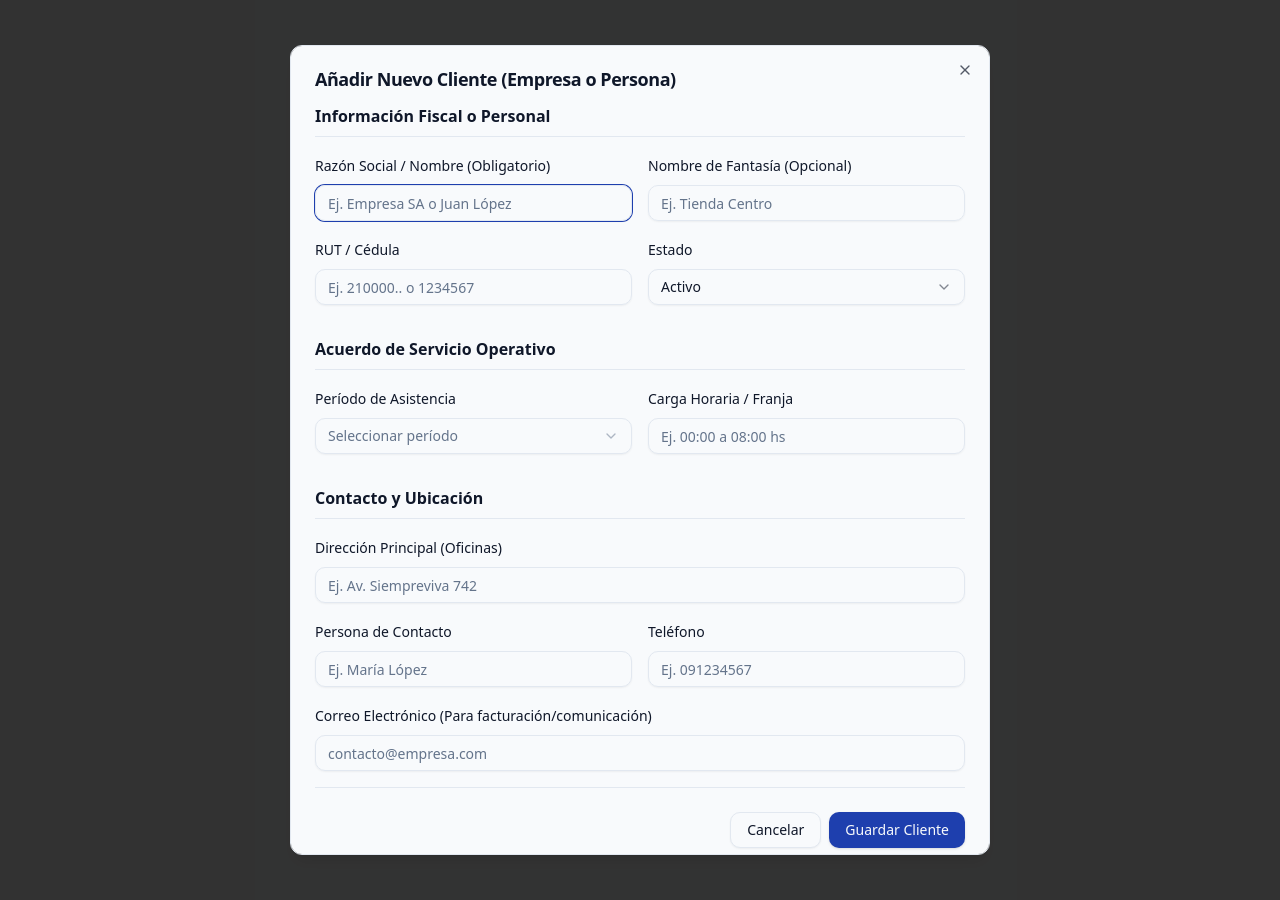
Test: ClienteFormDialog › shows validation errors when submitting empty required fields
The image size is (1280, 900).
Click the button "Guardar Cliente" at [897, 830], box x1=829 y1=812 x2=965 y2=848
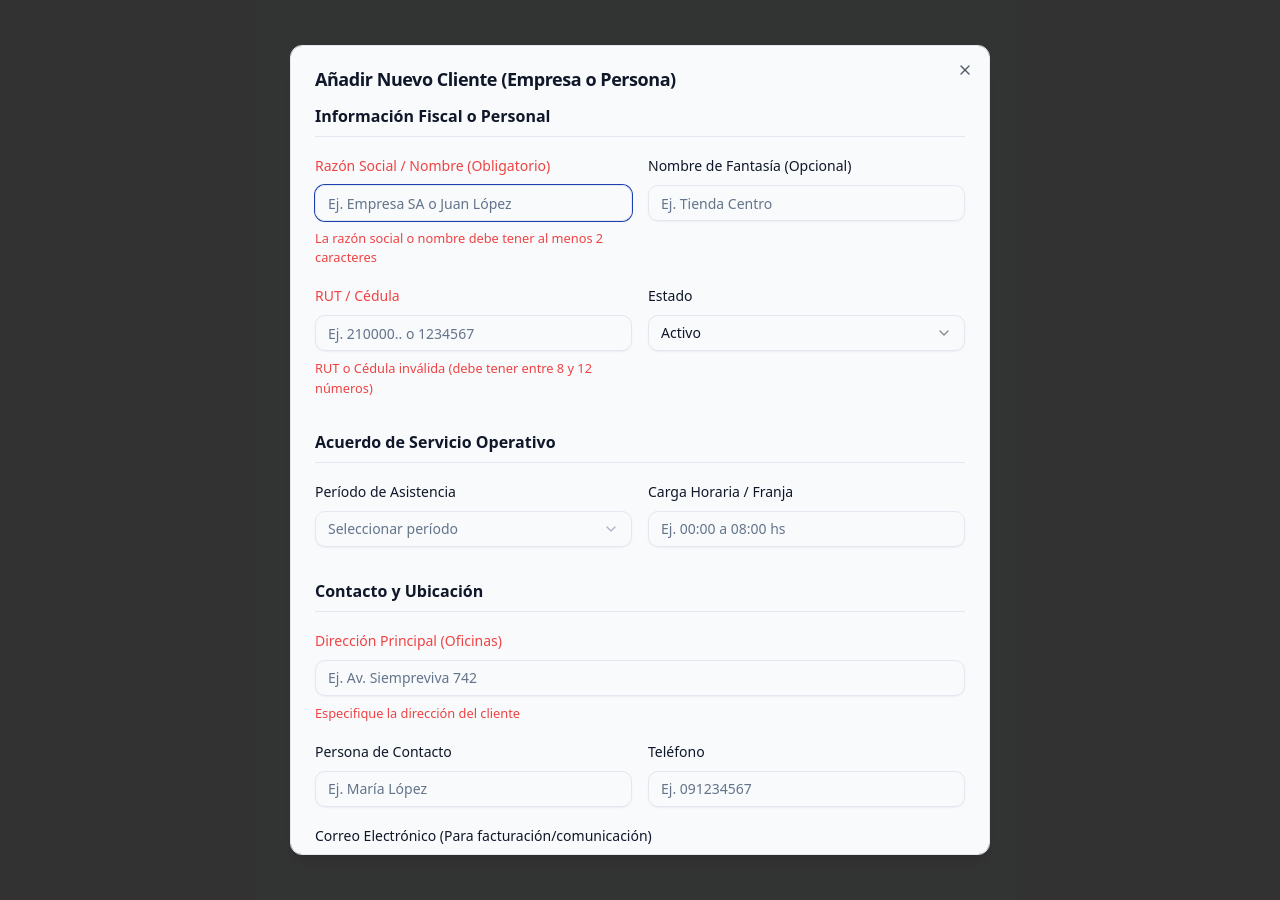
Result: the text "La razón social o nombre debe tener al menos 2 caracteres" is shown at x1=315 y1=229 x2=632 y2=267
Result: the text "RUT o Cédula inválida (debe tener entre 8 y 12 números)" is shown at x1=315 y1=359 x2=632 y2=398
Result: the text "Especifique la dirección del cliente" is shown at x1=315 y1=704 x2=520 y2=722
